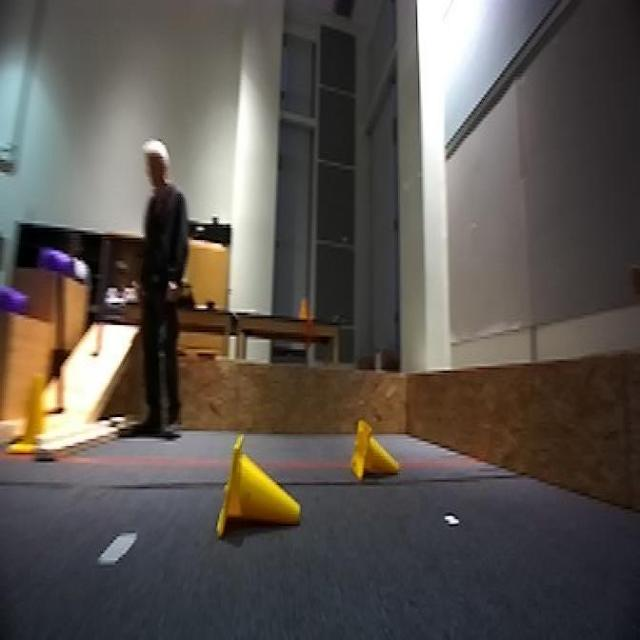frc_cone: (213, 438, 299, 542), (351, 417, 403, 482), (15, 370, 50, 454)
frc_cube: (39, 242, 93, 286), (0, 272, 30, 316)
